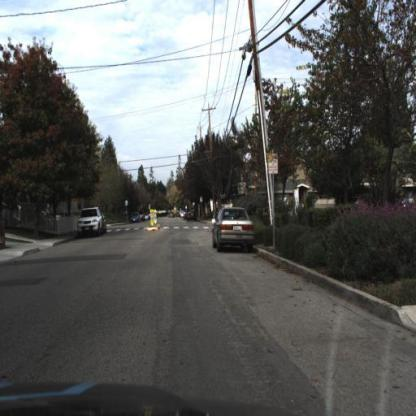car: (211, 205, 256, 254), (75, 201, 109, 238), (186, 205, 200, 226), (126, 211, 139, 227)
